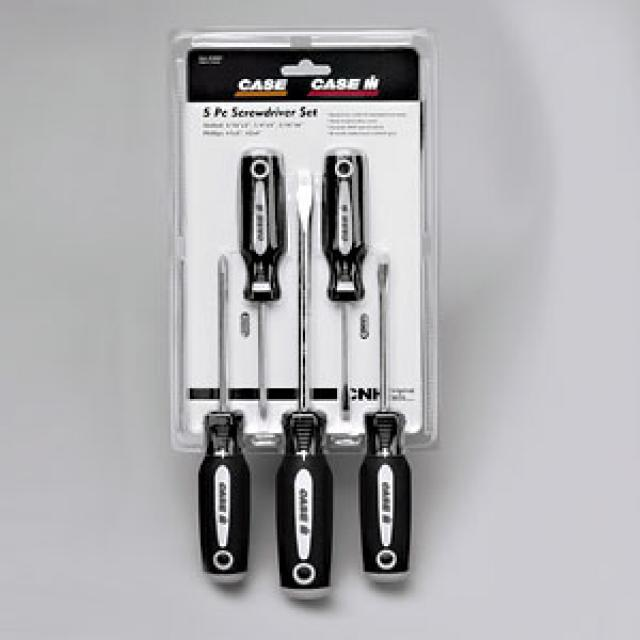screwdriver: (274, 160, 336, 596), (188, 252, 258, 580), (352, 248, 415, 590), (318, 136, 372, 459), (242, 136, 285, 428)
